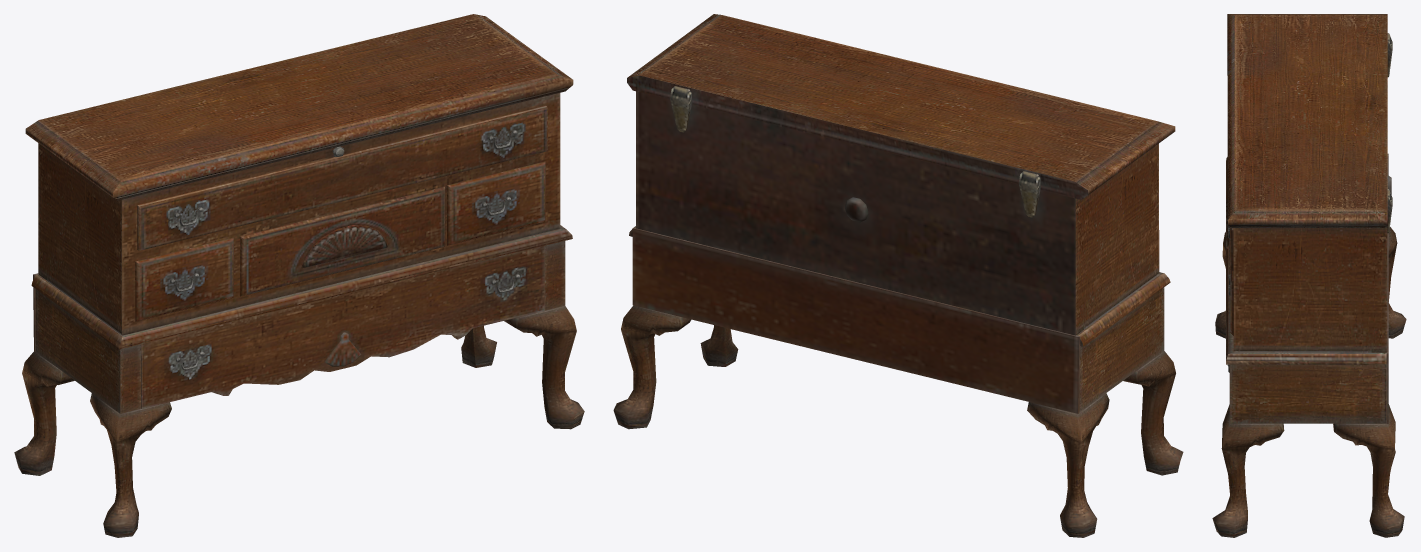
Rendered from Tablec.fbx.
The picture shows the model from 3 angles, left to right: view 1: azimuth 30°, elevation 25°; view 2: azimuth 150°, elevation 25°; view 3: azimuth 270°, elevation 25°; orthographic projection. The views are drawn at different scales.
Parts seen in each view (by area): view 1: LODGroup_1_MainMesh_1_SubMesh_1; view 2: LODGroup_1_MainMesh_1_SubMesh_1; view 3: LODGroup_1_MainMesh_1_SubMesh_1.
Part boxes in pixels (bbox=[...]): LODGroup_1_MainMesh_1_SubMesh_1: bbox=[14, 14, 584, 537]; LODGroup_1_MainMesh_1_SubMesh_1: bbox=[613, 14, 1183, 537]; LODGroup_1_MainMesh_1_SubMesh_1: bbox=[1212, 14, 1406, 537].
Bounding box in the file's own units: 171 × 119 × 65.58.
